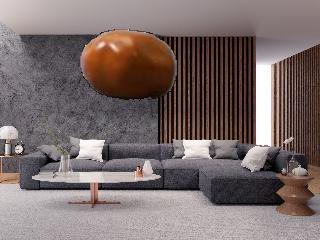potato: (78, 27, 178, 102)
